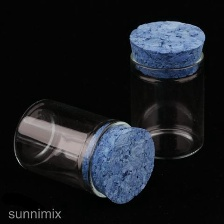bottle: (9, 94, 133, 205), (124, 48, 211, 166)
